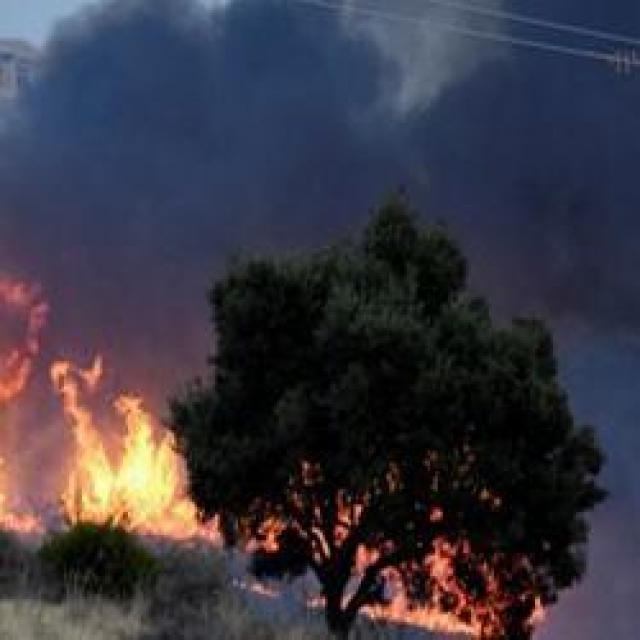Fire: (303, 441, 640, 640), (2, 340, 256, 566)
Smoke: (0, 0, 640, 294)
